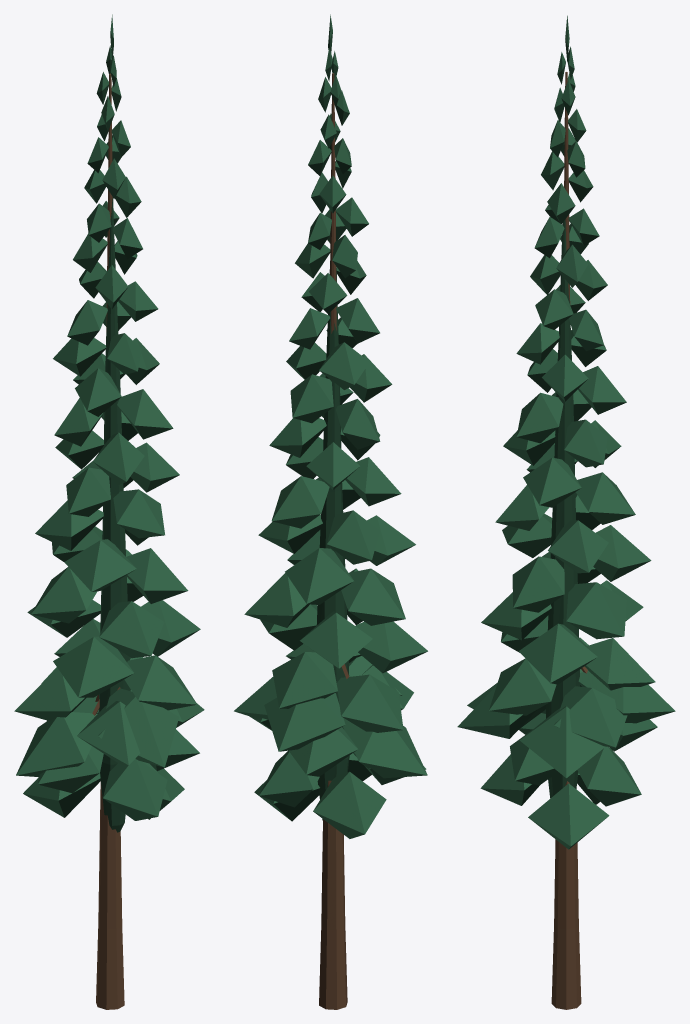
Rendered from tall-narrow-lod1.glb.
3 views of the same model, side by side, from view 1: azimuth 30°, elevation 25°; view 2: azimuth 150°, elevation 25°; view 3: azimuth 270°, elevation 25° (orthographic).
Visible parts, largest first — view 1: OuterNeedles, InnerNeedles, Bark; view 2: OuterNeedles, InnerNeedles, Bark; view 3: OuterNeedles, InnerNeedles, Bark.
Part boxes in pixels (x1,y1,x2,y2): OuterNeedles: (14, 14, 204, 816); InnerNeedles: (15, 32, 203, 832); Bark: (92, 73, 124, 1009); OuterNeedles: (234, 14, 427, 834); InnerNeedles: (234, 32, 427, 838); Bark: (319, 73, 349, 1009); OuterNeedles: (457, 15, 675, 846); InnerNeedles: (458, 39, 674, 849); Bark: (551, 72, 587, 1009).
Bounding box in the file's own units: 5 × 25 × 5.
